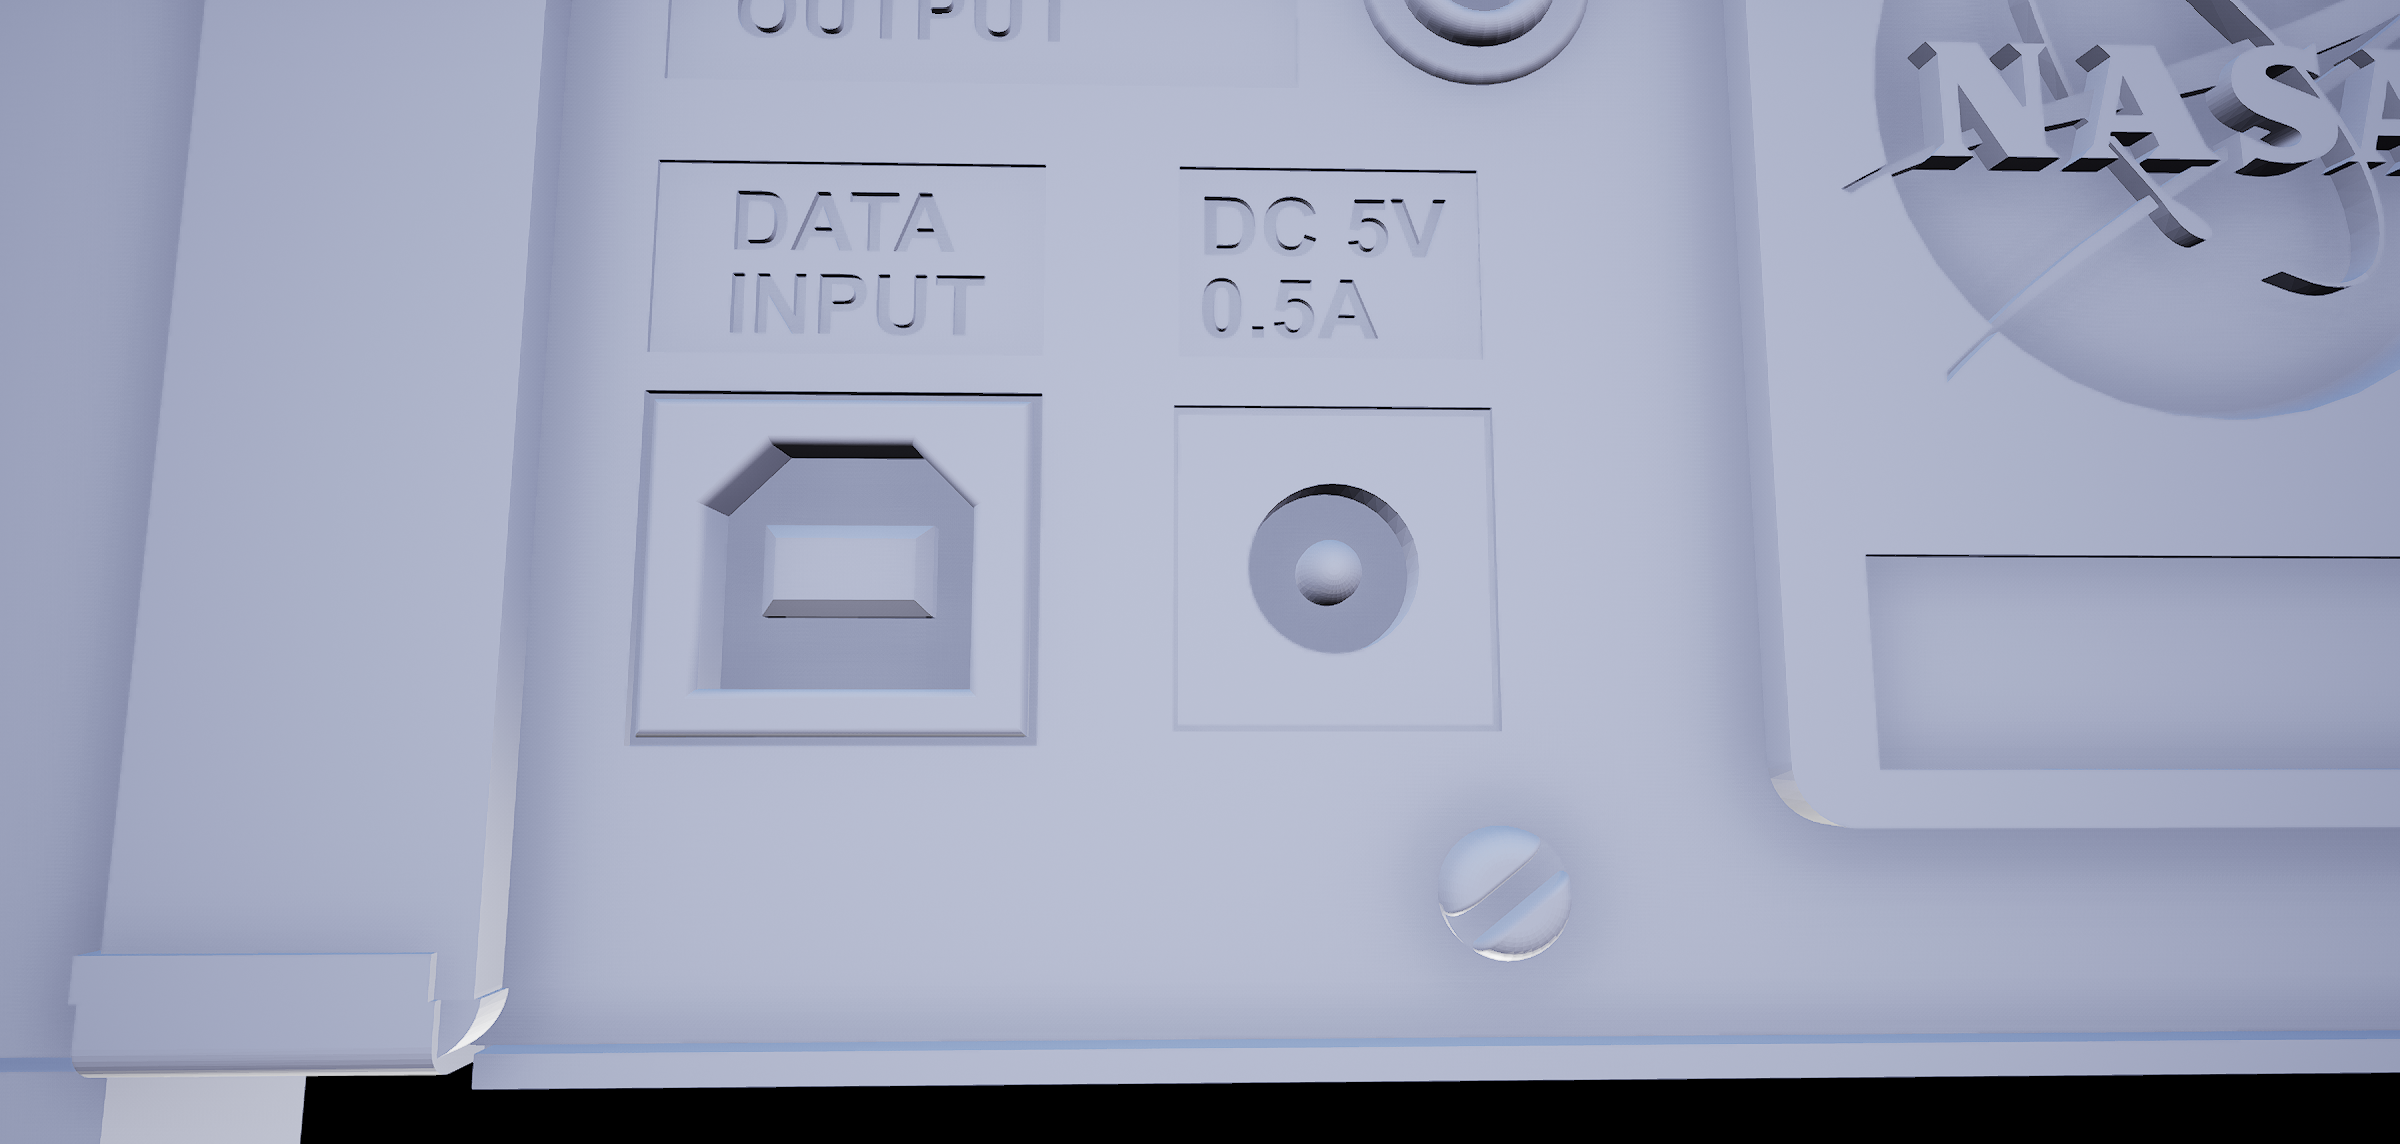aux: (1348, 2, 1630, 96)
dc: (1235, 464, 1446, 666)
usb: (692, 430, 989, 706)
